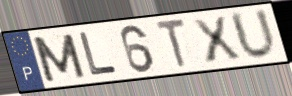6: (120, 23, 157, 75)
L: (77, 30, 120, 78)
M: (30, 32, 89, 84)
T: (154, 16, 189, 71)
U: (227, 7, 279, 63)
X: (189, 15, 244, 66)
